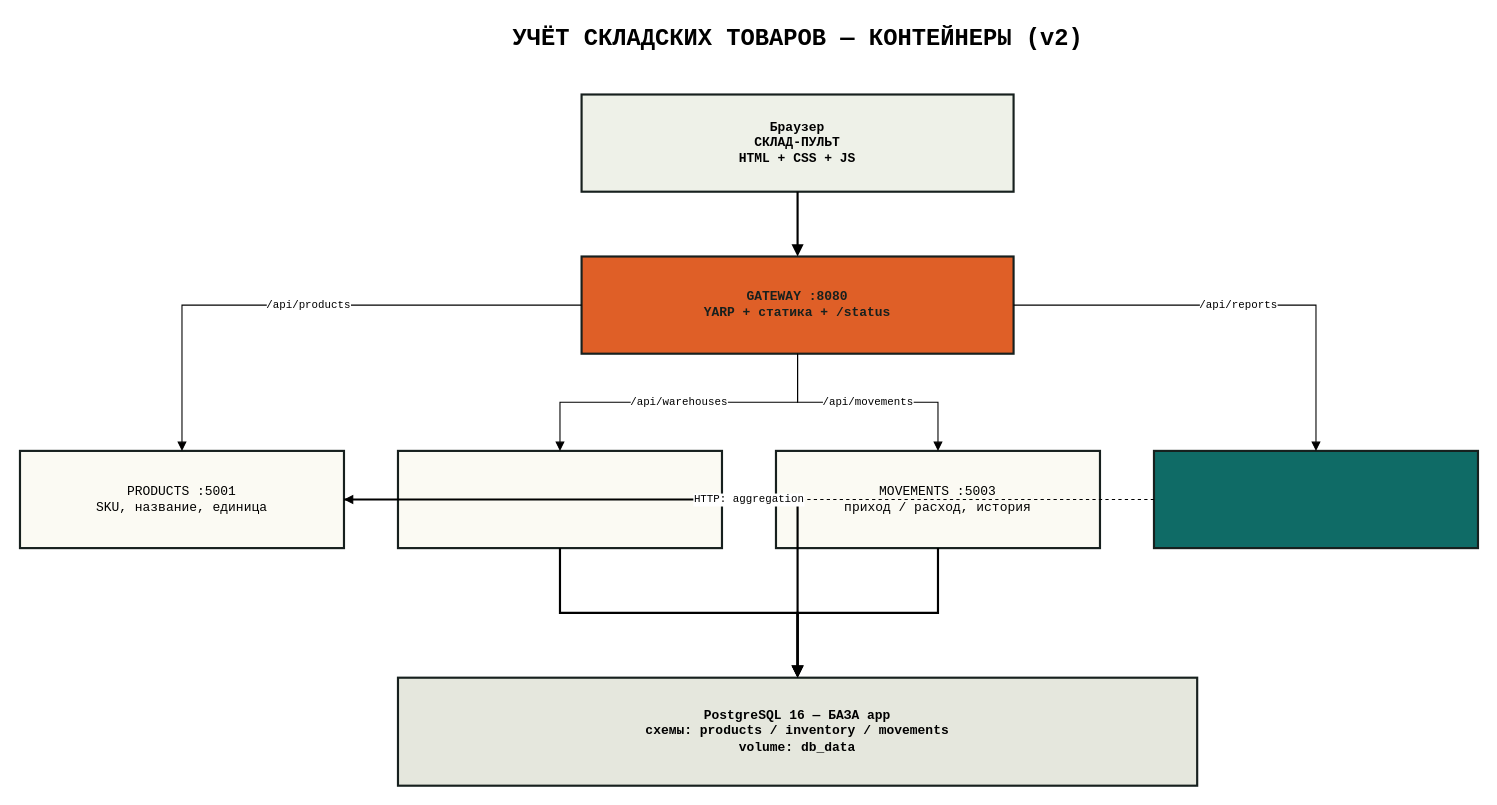
Some shapes in this 1497 by 805 pixel diagram are drawn without their labels. The shapes that lost their labels are listed below. From the top down, each one's centre as x and y in pixels, then its label:
At (559,499): "INVENTORY :5002 склады и остатки".
At (1315,499): "REPORTS :5004 JSON + текстовый отчёт".
